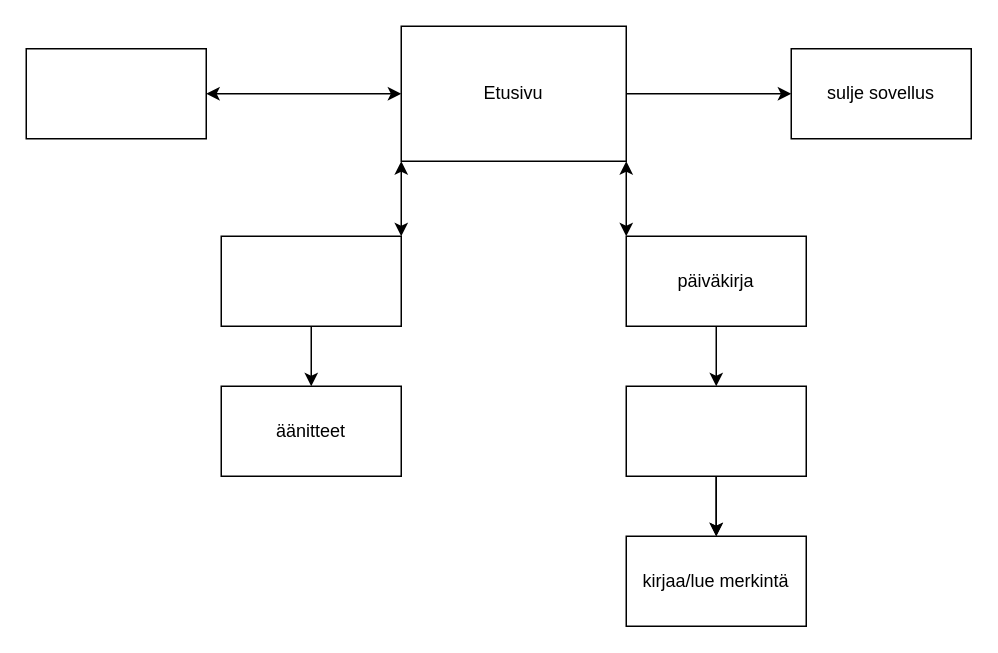
This 998x653 diagram has some shape labels left out. The shapes that lost their labels are listed below. From the top down, each one's centre as x and y in pixels, then its label:
At pixel 115 93: "paniikkinappulapeli :D".
At pixel 310 280: "harjoitteet".
At pixel 715 430: "valitse päivä (merkki jos päivällä merkintä)".
